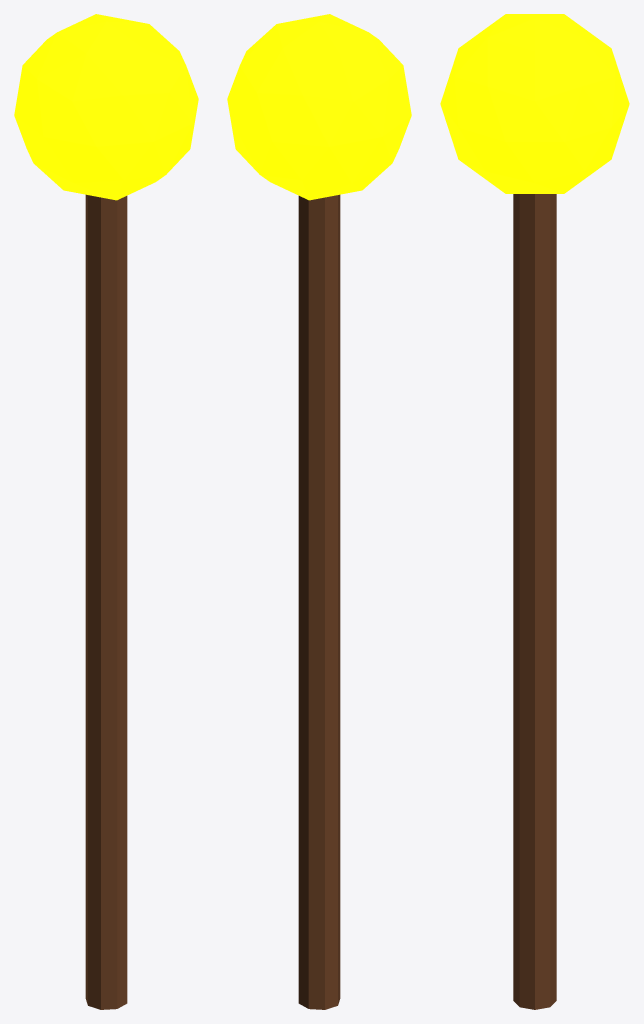
The model's file is cetro_raiz.glb.
3 renders of one model, left to right at view 1: azimuth 30°, elevation 25°; view 2: azimuth 150°, elevation 25°; view 3: azimuth 270°, elevation 25°, orthographic.
Visible parts, largest first — view 1: Cylinder, Icosphere; view 2: Cylinder, Icosphere; view 3: Cylinder, Icosphere.
Boxes of the visible parts, x1,y1,x2,y2 form: Cylinder: (85,194,127,1009); Icosphere: (14,14,198,200); Cylinder: (298,194,340,1009); Icosphere: (227,14,411,200); Cylinder: (513,194,556,1009); Icosphere: (440,14,629,193).
Bounding box in the file's own units: 0.2092 × 1.26 × 0.22.
